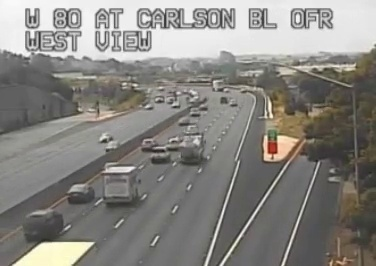car: (23, 210, 64, 238), (66, 183, 93, 204), (151, 147, 170, 161), (141, 138, 157, 152), (167, 137, 180, 150)
small-truck: (103, 165, 138, 205)
tank-truck: (181, 134, 205, 165)
